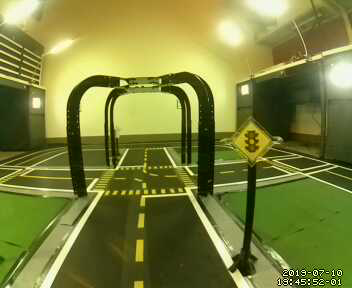Traffic light sign: (232, 116, 275, 171)
